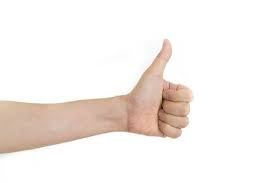thumbs_up: (89, 25, 201, 151)
